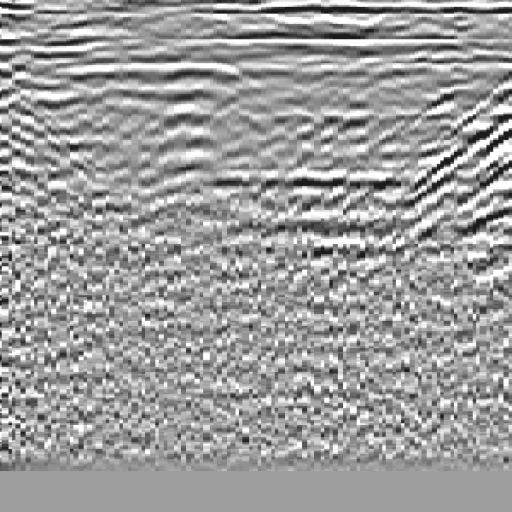metalic: (154, 53, 331, 281)
nonmetalic: (381, 70, 512, 304)
